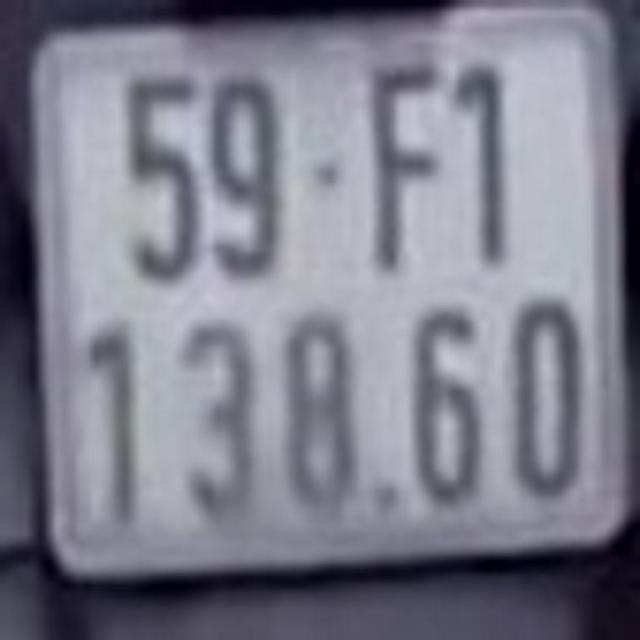0: (512, 290, 585, 500)
1: (454, 56, 509, 273), (81, 315, 139, 520)
3: (171, 314, 257, 521)
5: (121, 73, 203, 280)
6: (408, 299, 482, 506)
8: (282, 304, 360, 520)
9: (209, 70, 279, 280)
F: (365, 58, 443, 272)
